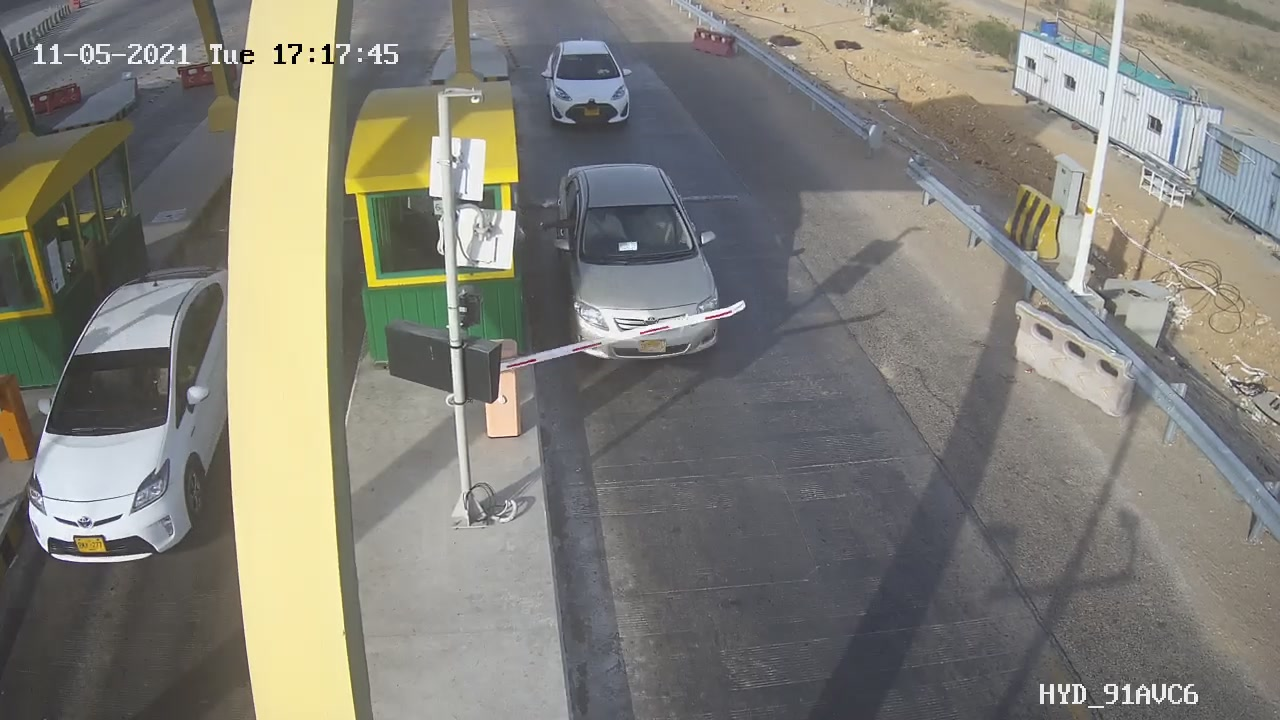F1: (534, 148, 739, 378), (525, 27, 651, 142)
